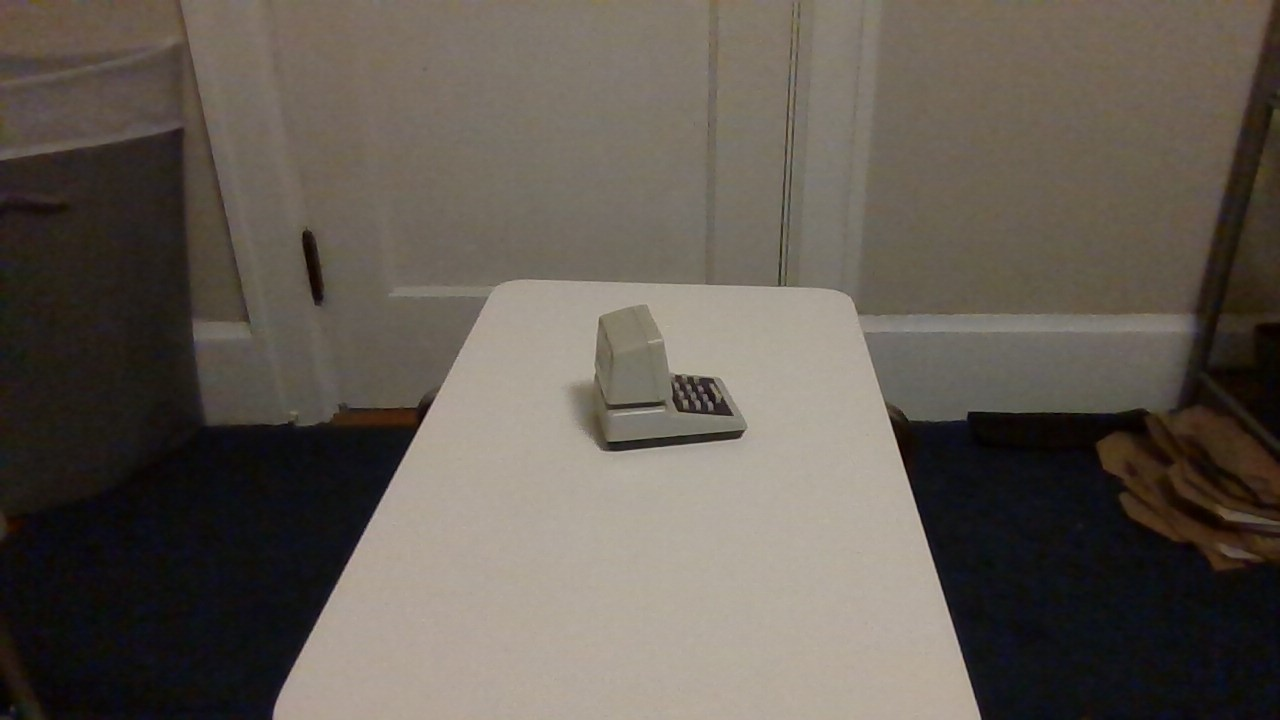Toy: (563, 285, 772, 476)
